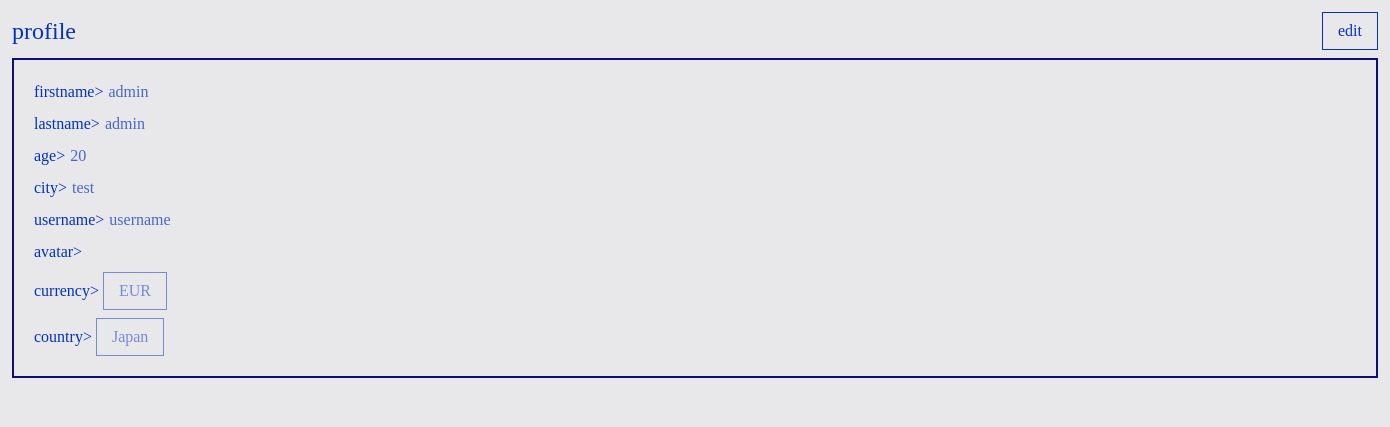
Scenario: EditableProfileCard › should display validation error message
Click the button with test id "edit-button" at (1350, 31), box [1322, 12, 1378, 50]
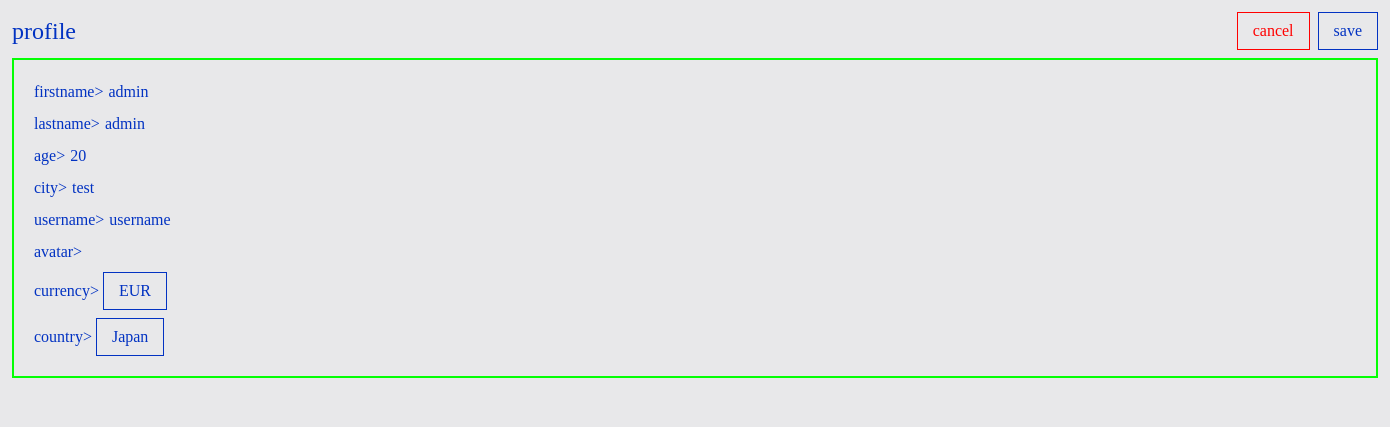
Clear the field with test id "firstName-field" at (208, 92), box [108, 80, 308, 104]
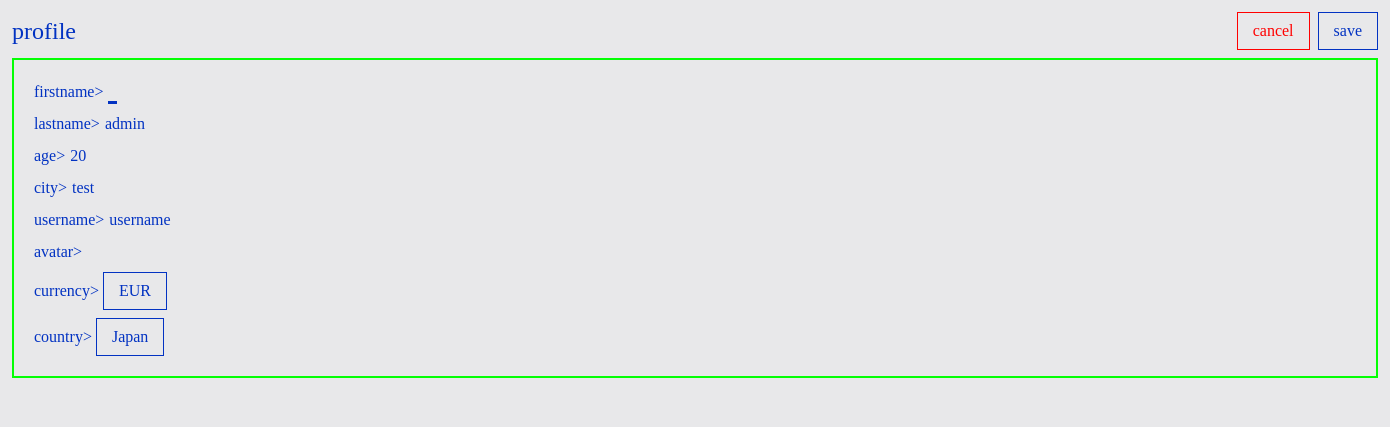
Click the button with test id "save-button" at (1348, 31), box [1318, 12, 1378, 50]
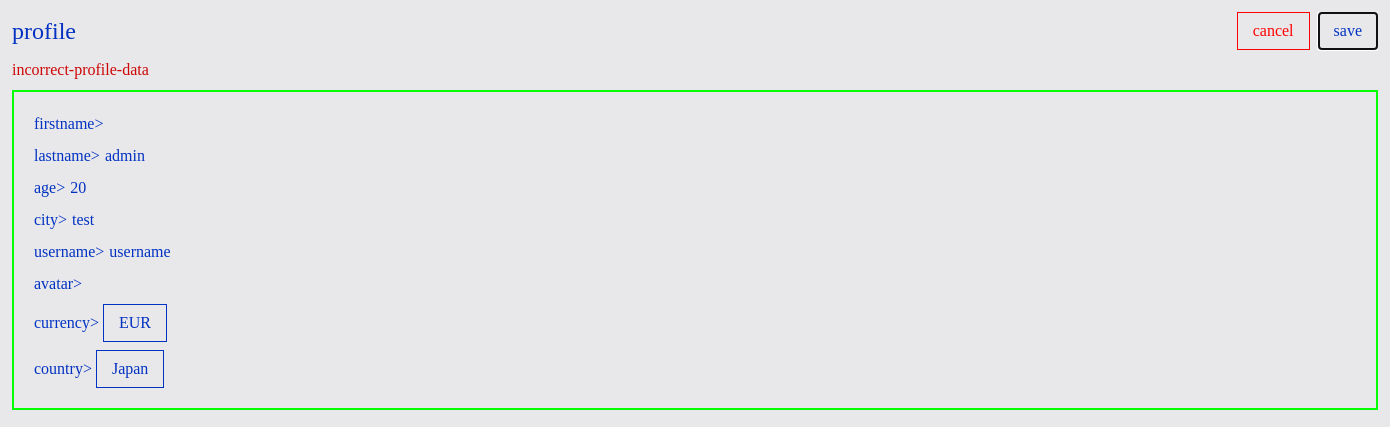
Expected: the text "incorrect-profile-data" is shown, [12, 58, 149, 82]
